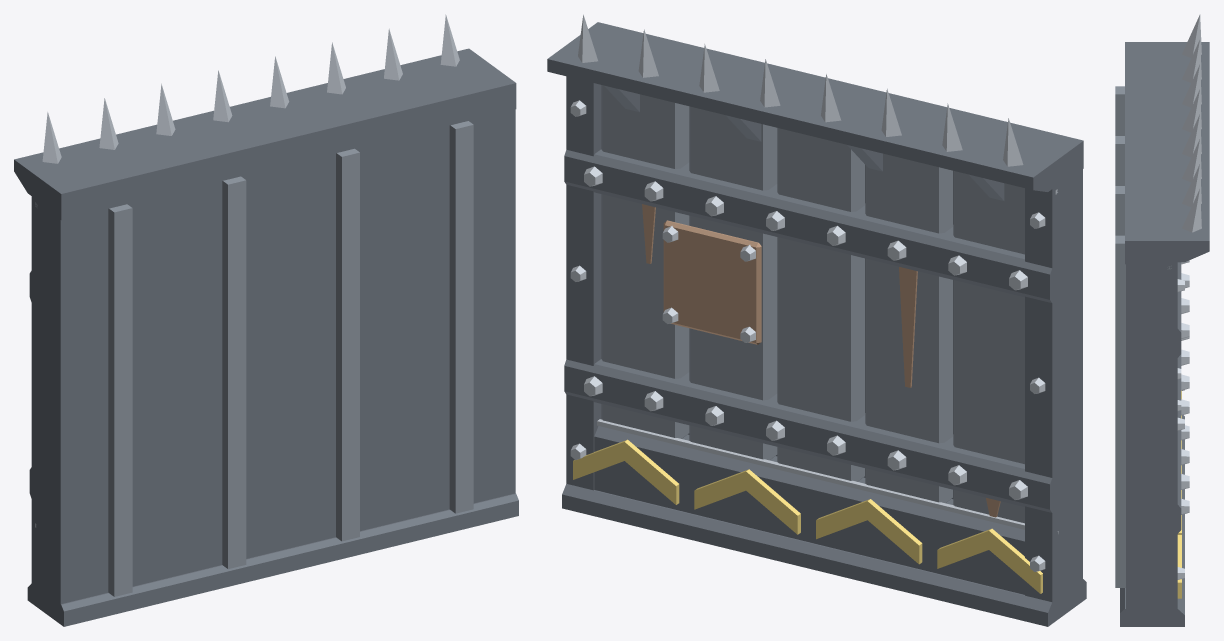
The model's file is IronWall.fbx.
The picture shows the model from 3 angles, left to right: view 1: azimuth 30°, elevation 25°; view 2: azimuth 150°, elevation 25°; view 3: azimuth 270°, elevation 25°; orthographic projection. The views are drawn at different scales.
Parts seen in each view (by area): view 1: IronWall.Frame, IronWall.BackRibs, IronWall.BladeRail, IronWall.BladeBarbs, IronWall.KickPlate, IronWall.Straps; view 2: IronWall.Plates, IronWall.Frame, IronWall.Straps, IronWall.KickPlate, IronWall.BladeRail, IronWall.Chevrons, IronWall.RepairPatch, IronWall.Rivets, IronWall.BladeBarbs, IronWall.WeldBeads, IronWall.RustStreaks; view 3: IronWall.Frame, IronWall.BladeRail, IronWall.BackRibs, IronWall.BladeBarbs, IronWall.Straps, IronWall.Rivets, IronWall.Chevrons.
Boxes of the visible parts, left/top/right/bottom form: IronWall.Frame: left=27, top=61, right=518, bottom=626; IronWall.BackRibs: left=108, top=121, right=473, bottom=596; IronWall.BladeRail: left=14, top=48, right=493, bottom=195; IronWall.BladeBarbs: left=42, top=14, right=459, bottom=163; IronWall.KickPlate: left=32, top=529, right=48, bottom=595; IronWall.Straps: left=29, top=271, right=48, bottom=512; IronWall.Plates: left=601, top=85, right=1024, bottom=523; IronWall.Frame: left=562, top=22, right=1086, bottom=626; IronWall.Straps: left=564, top=149, right=1070, bottom=513; IronWall.KickPlate: left=594, top=426, right=1060, bottom=594; IronWall.BladeRail: left=547, top=39, right=1058, bottom=191; IronWall.Chevrons: left=573, top=439, right=1042, bottom=593; IronWall.RepairPatch: left=663, top=220, right=761, bottom=344; IronWall.Rivets: left=570, top=100, right=1045, bottom=571; IronWall.BladeBarbs: left=578, top=14, right=1023, bottom=166; IronWall.WeldBeads: left=597, top=189, right=1058, bottom=533; IronWall.RustStreaks: left=642, top=204, right=1000, bottom=517; IronWall.Frame: left=1120, top=42, right=1184, bottom=626; IronWall.BladeRail: left=1165, top=42, right=1209, bottom=262; IronWall.BackRibs: left=1115, top=86, right=1125, bottom=587; IronWall.BladeBarbs: left=1182, top=14, right=1201, bottom=232; IronWall.Straps: left=1147, top=262, right=1181, bottom=534; IronWall.Rivets: left=1177, top=260, right=1189, bottom=579; IronWall.Chevrons: left=1177, top=390, right=1181, bottom=598.
Bounding box in the file's own units: 8 × 8 × 1.6.
